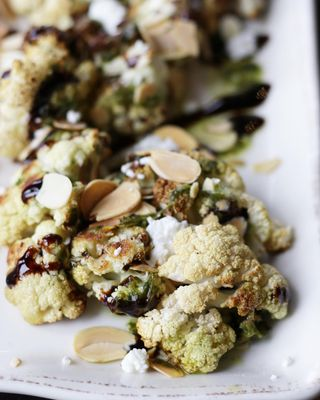sandwich: (0, 3, 304, 389)
